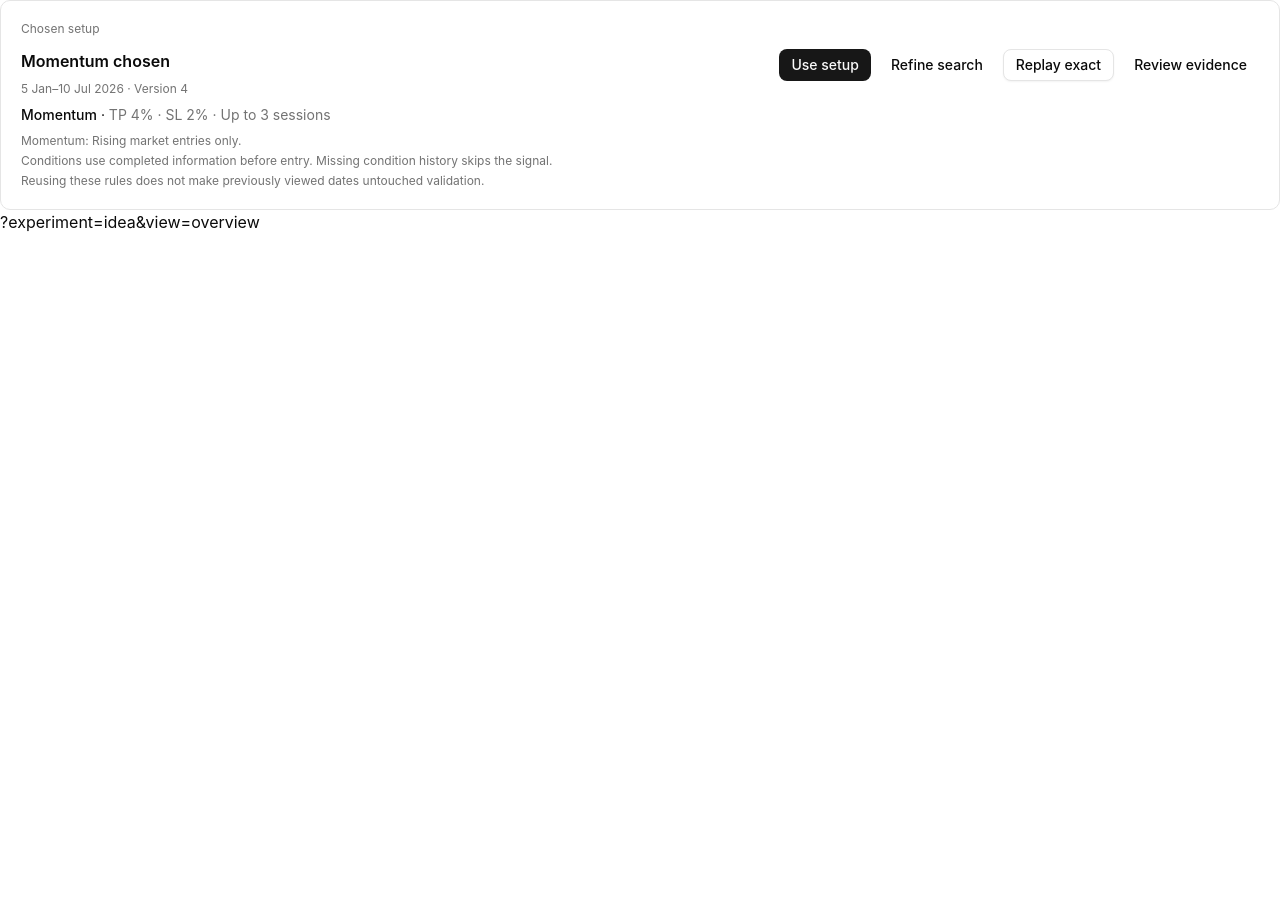
Test: shows retained entry conditions and the evidence-use warning in chosen setup and reuse
Expected: the text "Momentum: Rising market entries only." is shown, 21,133 -> 242,148
Expected: the text "previously viewed dates untouched validation" is shown, 21,173 -> 484,188
Click the button "Use setup": point(825, 65) 780,49 -> 871,81
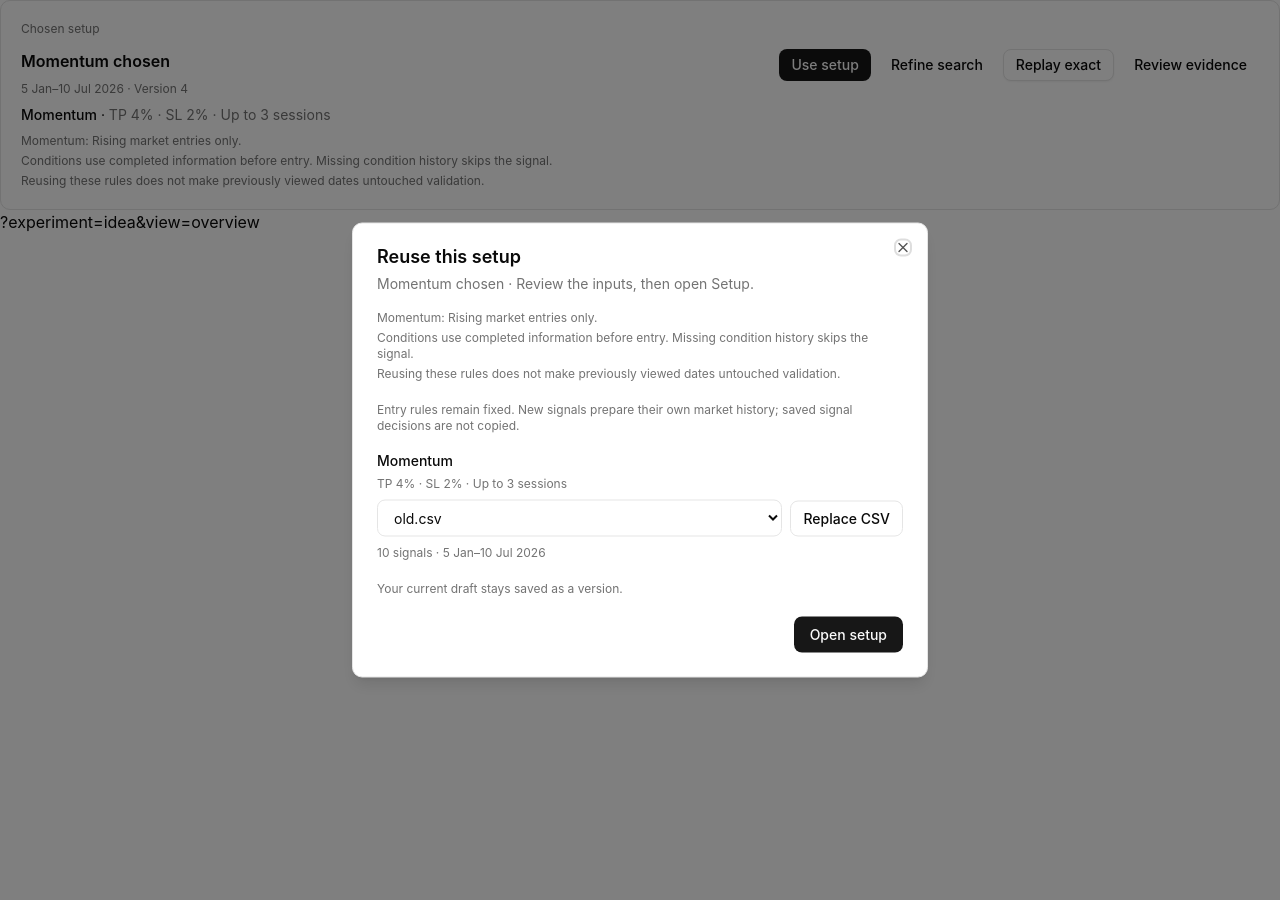
Expected: the text "Momentum: Rising market entries only." is shown, 377,310 -> 598,324
Expected: the text "saved signal decisions are not copied" is shown, 377,402 -> 852,432
